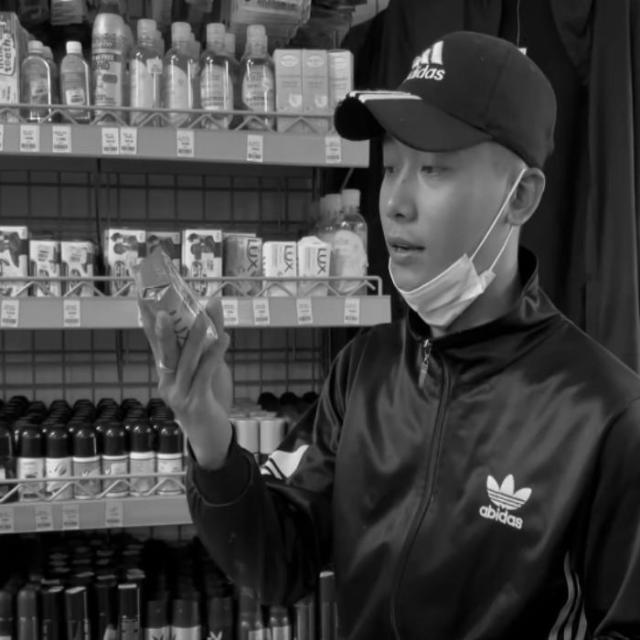hairnet: (376, 143, 498, 326)
